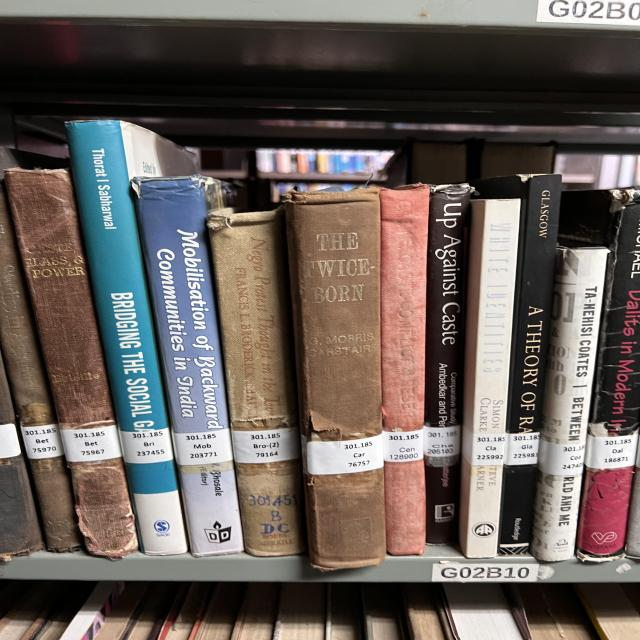Book: (67, 120, 197, 555), (13, 170, 138, 559), (133, 175, 243, 555), (285, 188, 387, 570), (472, 174, 562, 554), (207, 210, 305, 556), (0, 185, 82, 551), (573, 190, 640, 561), (530, 246, 608, 561), (460, 199, 520, 558), (380, 184, 430, 555), (425, 185, 468, 545), (0, 358, 43, 560), (527, 491, 528, 492)
Label: (305, 435, 383, 475), (232, 428, 300, 464), (60, 425, 122, 462), (173, 429, 233, 465), (585, 431, 638, 469), (120, 428, 173, 464), (538, 439, 585, 476), (462, 429, 505, 466), (20, 424, 63, 459), (382, 429, 423, 462), (503, 432, 540, 465), (423, 425, 460, 458), (0, 424, 22, 459)
